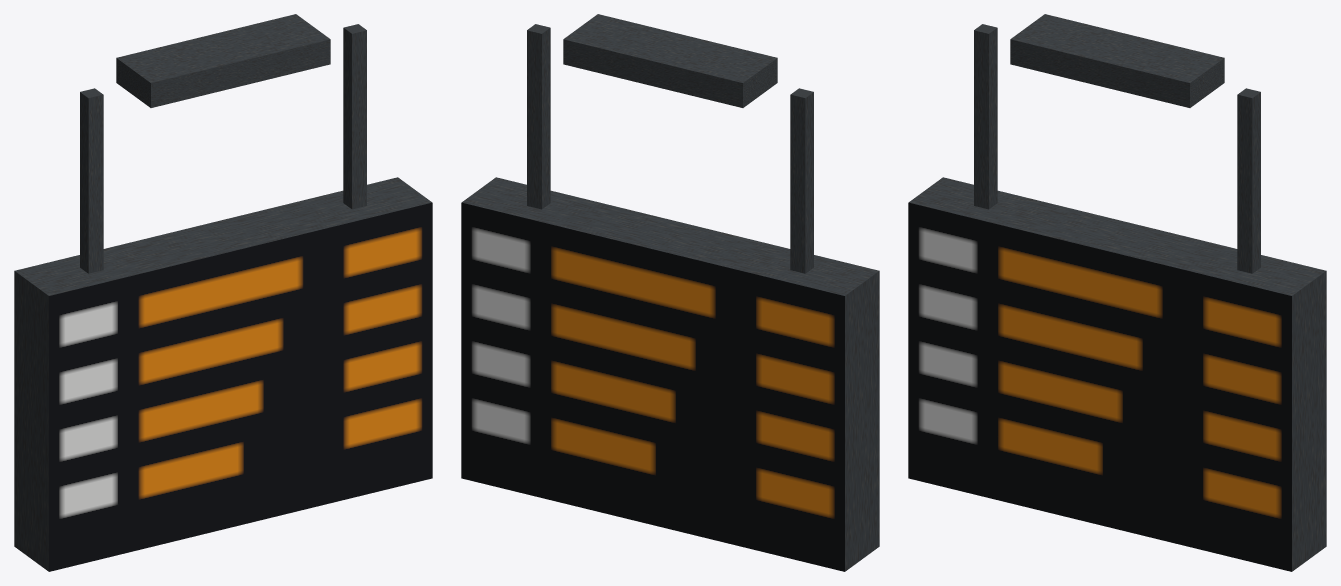
The model's file is anzeige_decke_h5.glb.
The picture shows the model from 3 angles, left to right: view 1: azimuth 30°, elevation 25°; view 2: azimuth 150°, elevation 25°; view 3: azimuth 330°, elevation 25°; orthographic projection.
Visible parts, largest first — view 1: H5; view 2: H5; view 3: H5.
Boxes of the visible parts, x1=… form: H5: x1=14, y1=14, x2=432, y2=571; H5: x1=461, y1=14, x2=879, y2=571; H5: x1=908, y1=14, x2=1326, y2=571.
Size of the model in its own units: 0.64 by 0.74 by 0.1.
1 material, 1 textured.
